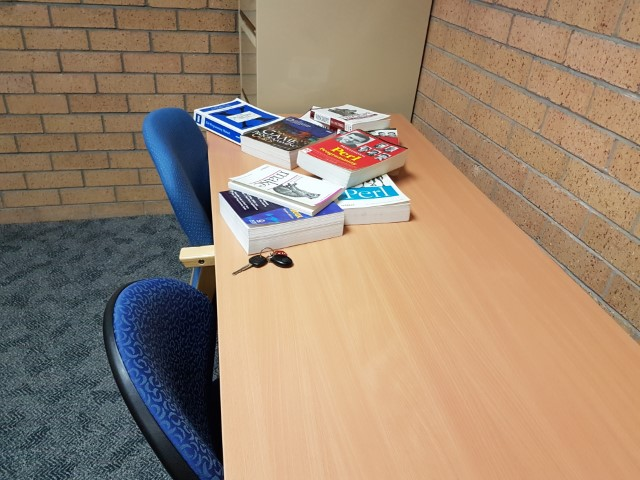key: (231, 254, 268, 275)
